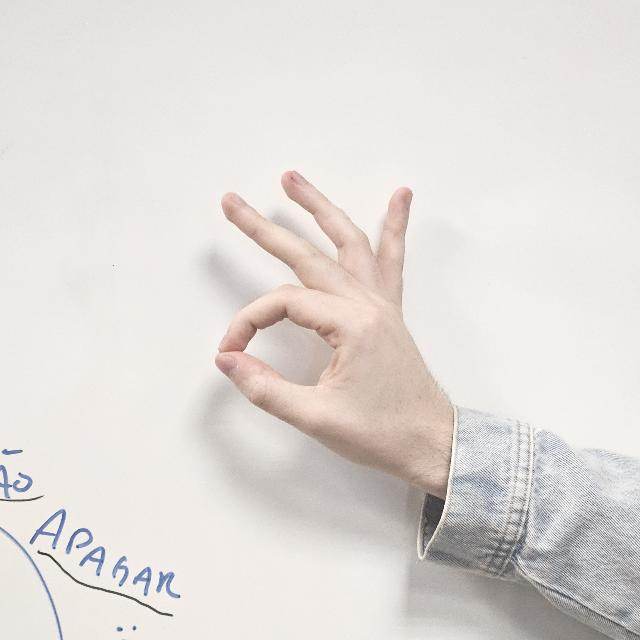Bolinha: (206, 160, 462, 518)
